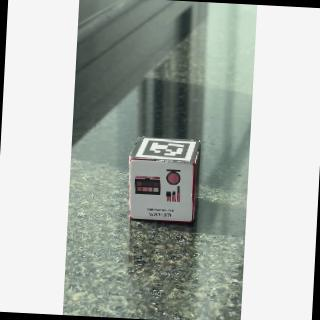Expired_Cosmetic: (131, 161, 194, 225)
